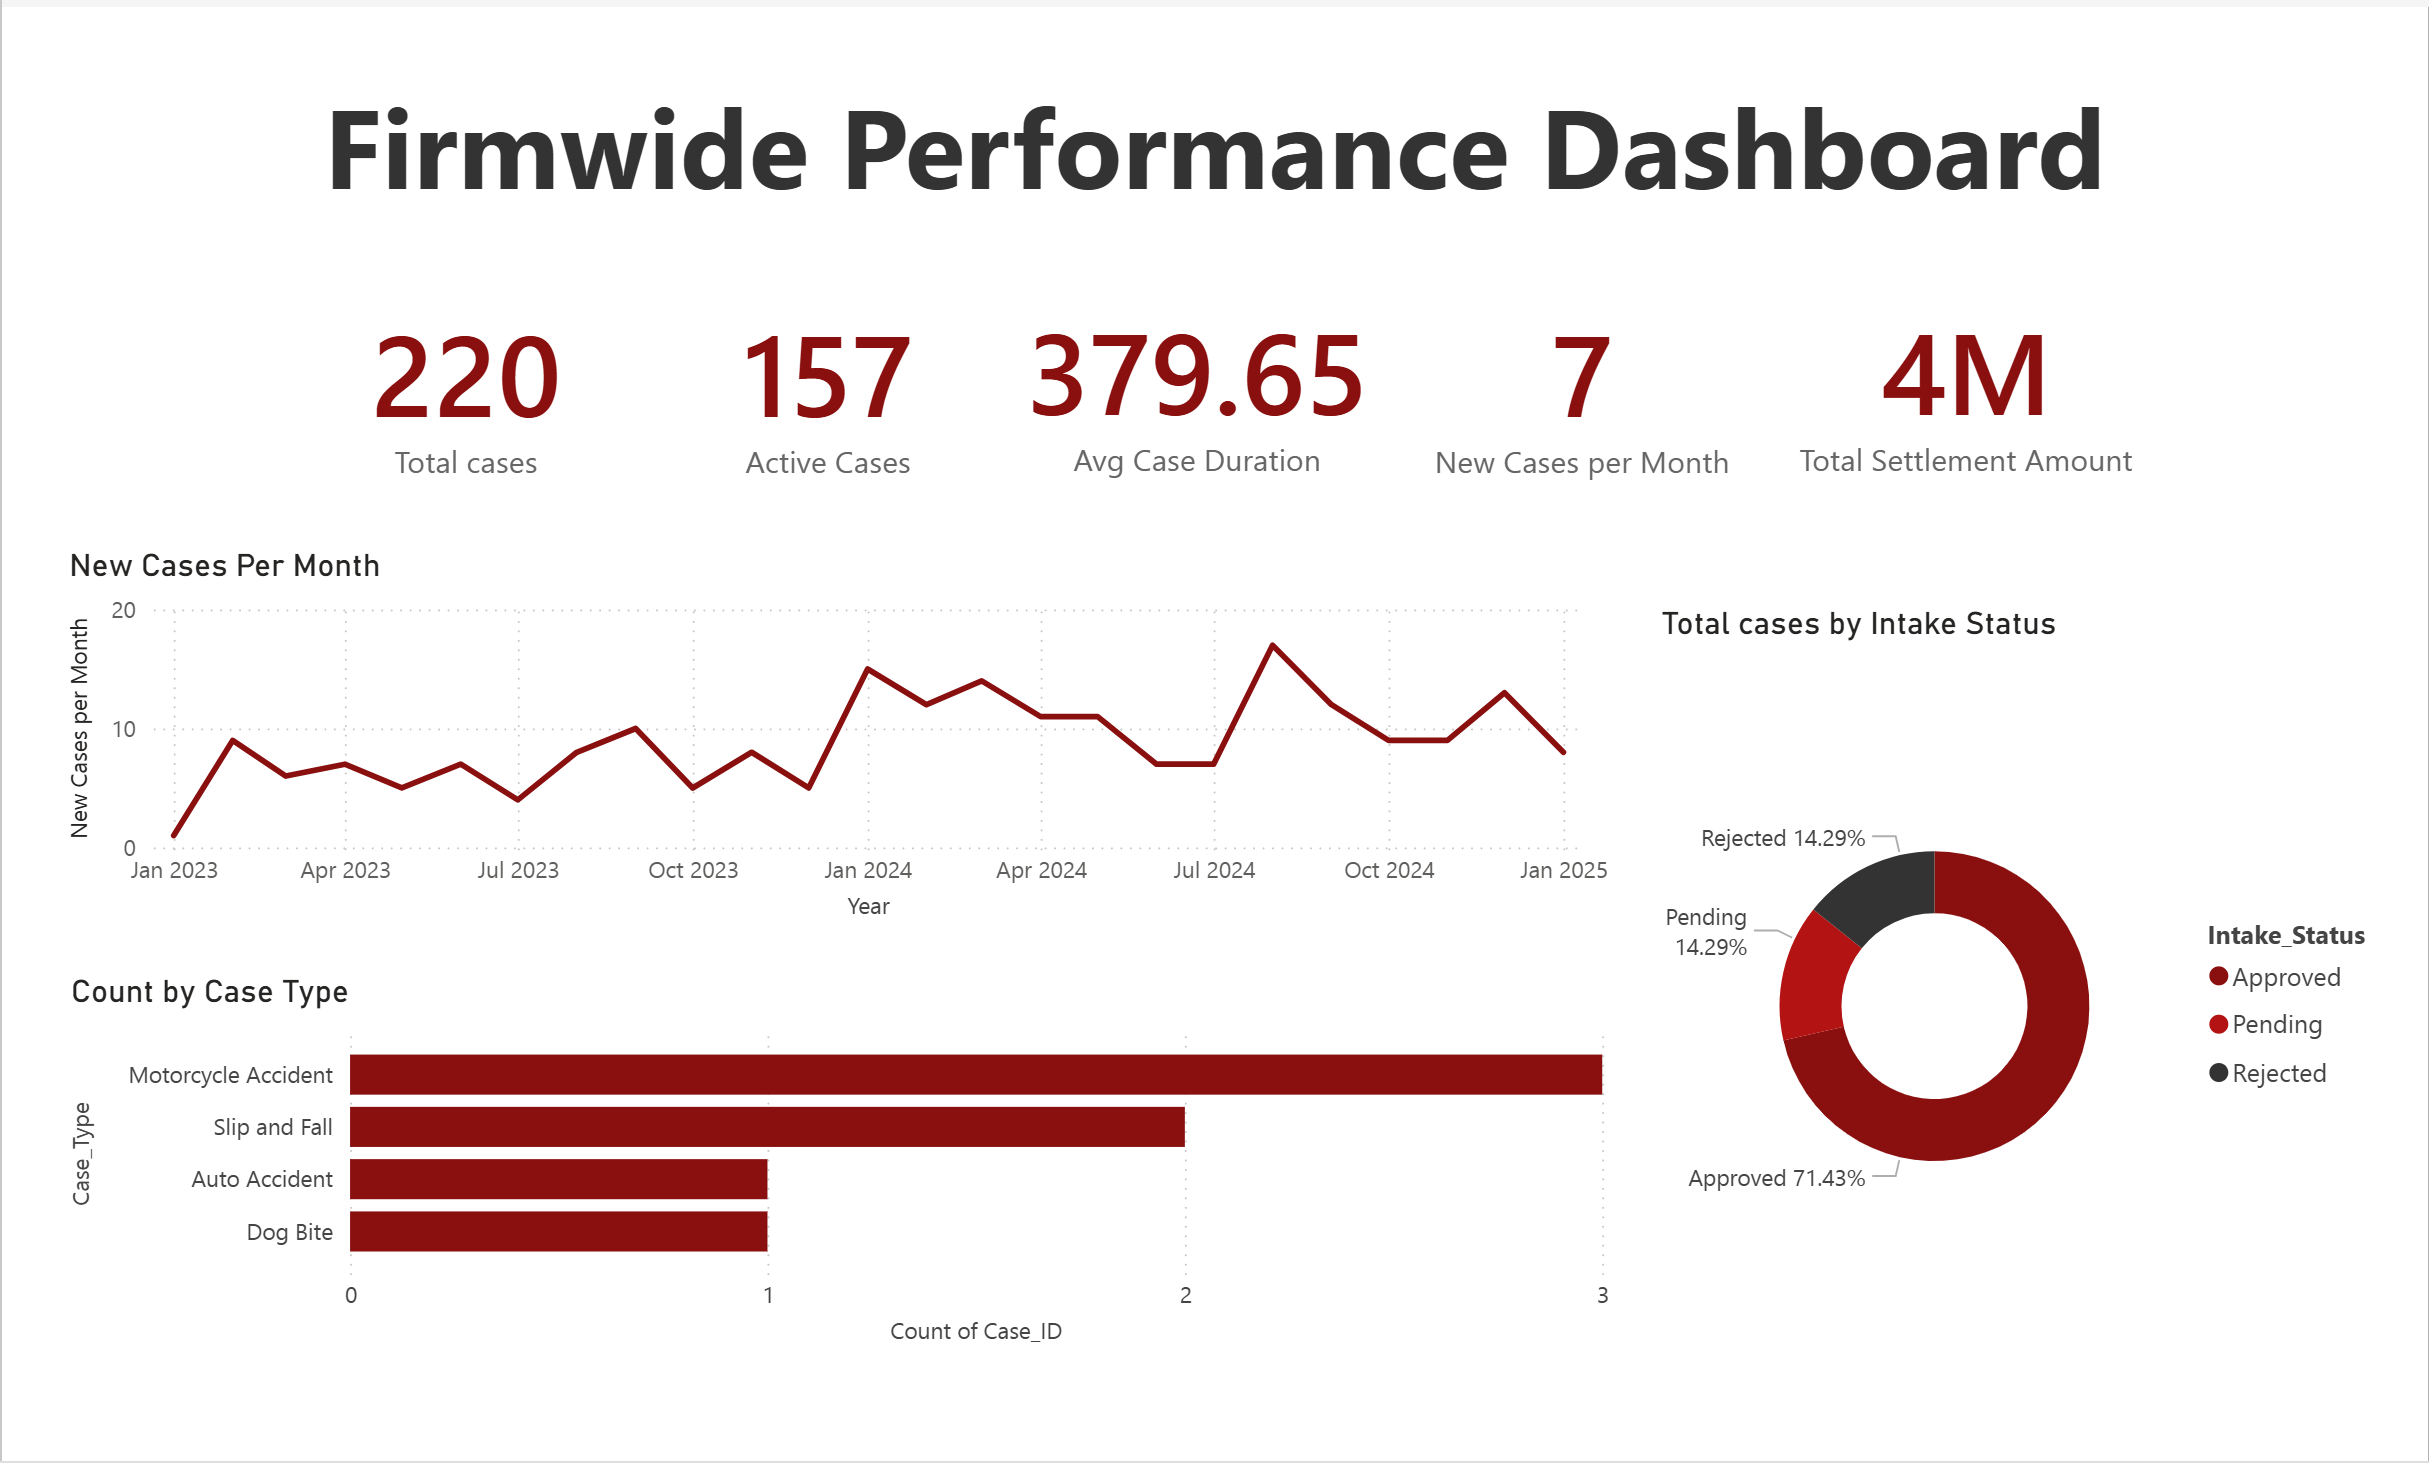

Layout of this report page (visuals, bound fields, positions):
{"tool":"powerbi","page":{"name":"Page 1","canvas":[1280,720],"ordinal":0},"visuals":[{"type":"textbox","box":[0,27.7,1280,119.1],"z":0},{"type":"slicer","fields":{"Values":["cases.Date_Filed"]},"box":[898.6,146.8,30.1,34.9],"z":1000},{"type":"card","fields":{"Values":["cases.Total cases"]},"box":[149.8,136.4,190,130],"z":2000},{"type":"card","fields":{"Values":["cases.Active Cases"]},"box":[340.5,135.9,190.1,129.9],"z":3000},{"type":"card","fields":{"Values":["cases.Avg Case Duration"]},"box":[530.5,134.7,199.7,129.9],"z":4000},{"type":"card","fields":{"Values":["cases.New Cases per Month"]},"box":[738.6,135.9,190.1,129.9],"z":5000},{"type":"card","fields":{"Values":["settlements.Total Settlement Amount"]},"box":[940.8,134.7,190.1,129.9],"z":6000},{"type":"lineChart","title":"New Cases Per Month","fields":{"Y":["cases.New Cases this Month"],"Category":["cases.Date_Filed.Variation.Date Hierarchy.Year","cases.Date_Filed.Variation.Date Hierarchy.Quarter","cases.Date_Filed.Variation.Date Hierarchy.Month","cases.Date_Filed.Variation.Date Hierarchy.Day"]},"box":[31.1,284.9,822.2,201.5],"z":7000},{"type":"barChart","title":"Count by Case Type","fields":{"Category":["intake.Case_Type"],"Y":["CountNonNull(cases.Case_ID)"]},"box":[31.3,510.1,821.7,200.9],"z":8000},{"type":"donutChart","title":"Total cases by Intake Status","fields":{"Y":["cases.Total cases"],"Category":["intake.Intake_Status"]},"box":[870.7,316,398.1,404.3],"z":9000}]}

Visuals, with their boxes on the page's 1280x720 design canvas (x1, y1, x2, y2). These are canvas units, not pixel positions in the 2429x1463 screenshot, which may show the page scaled, cropped or inside an application window:
textbox: Rect(0, 28, 1280, 147)
slicer - cases.Date_Filed: Rect(899, 147, 929, 182)
card - cases.Total cases: Rect(150, 136, 340, 266)
card - cases.Active Cases: Rect(340, 136, 531, 266)
card - cases.Avg Case Duration: Rect(530, 135, 730, 265)
card - cases.New Cases per Month: Rect(739, 136, 929, 266)
card - settlements.Total Settlement Amount: Rect(941, 135, 1131, 265)
"New Cases Per Month" lineChart: Rect(31, 285, 853, 486)
"Count by Case Type" barChart: Rect(31, 510, 853, 711)
"Total cases by Intake Status" donutChart: Rect(871, 316, 1269, 720)
